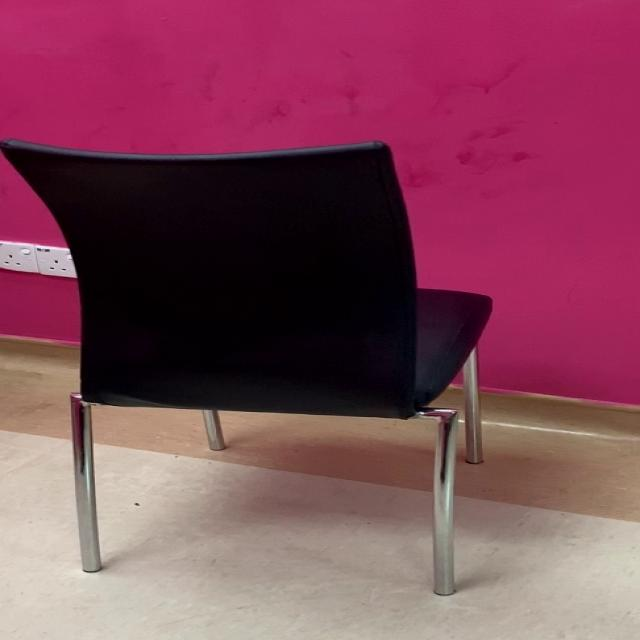Chair: (3, 135, 510, 605)
